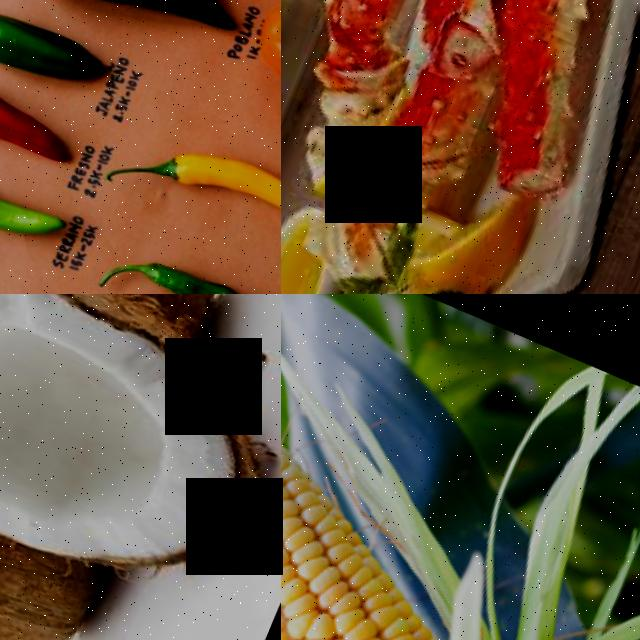chilli: (151, 121, 281, 262), (0, 0, 114, 102), (125, 227, 281, 294), (0, 59, 88, 176), (0, 128, 72, 256)
coconut: (0, 294, 281, 612), (0, 453, 116, 640)
corn: (281, 412, 625, 640)
crab: (387, 0, 640, 214), (281, 0, 531, 101)
